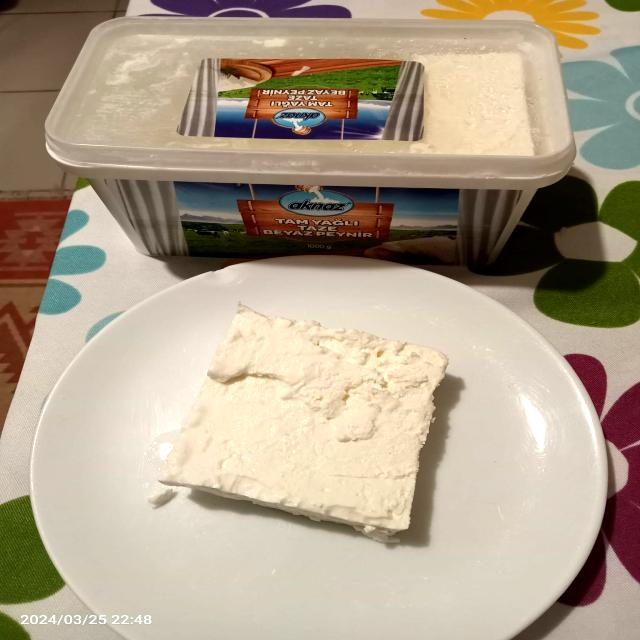cheese: (58, 15, 580, 254), (142, 290, 475, 548)
